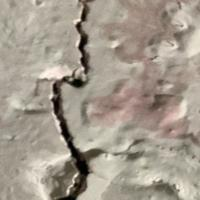crack: (38, 0, 117, 199)
